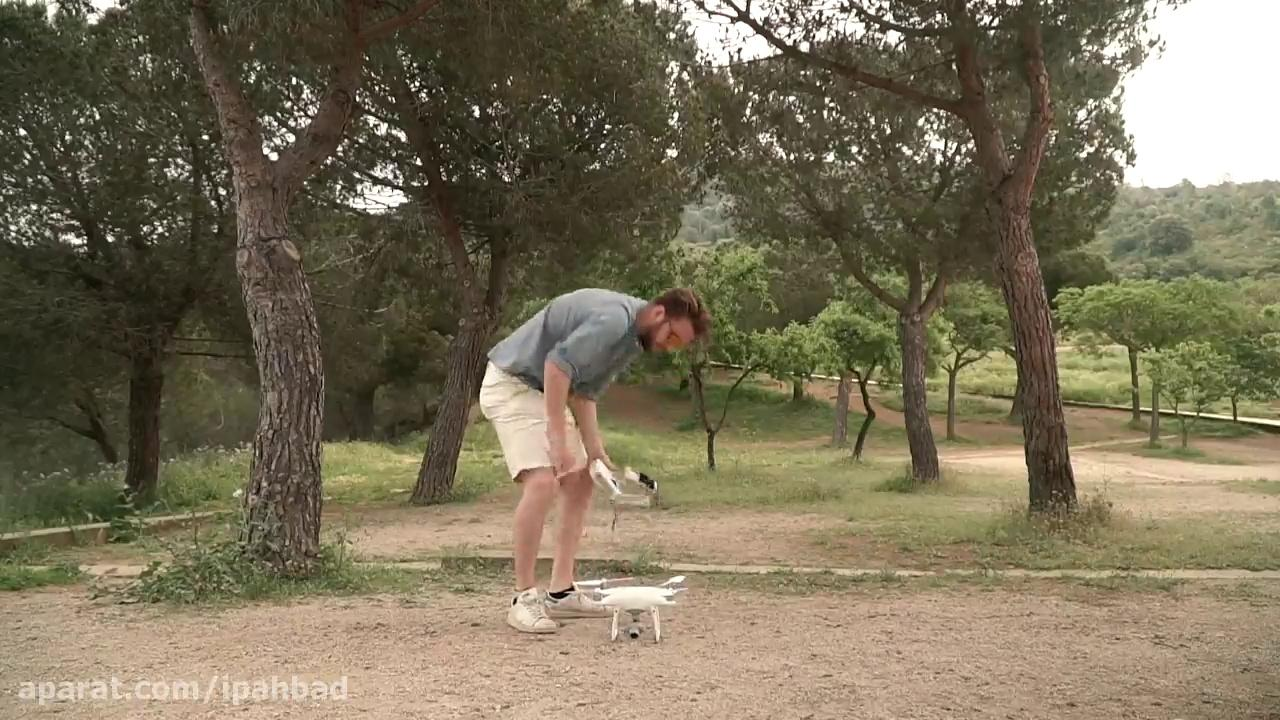drone: (570, 566, 695, 647)
